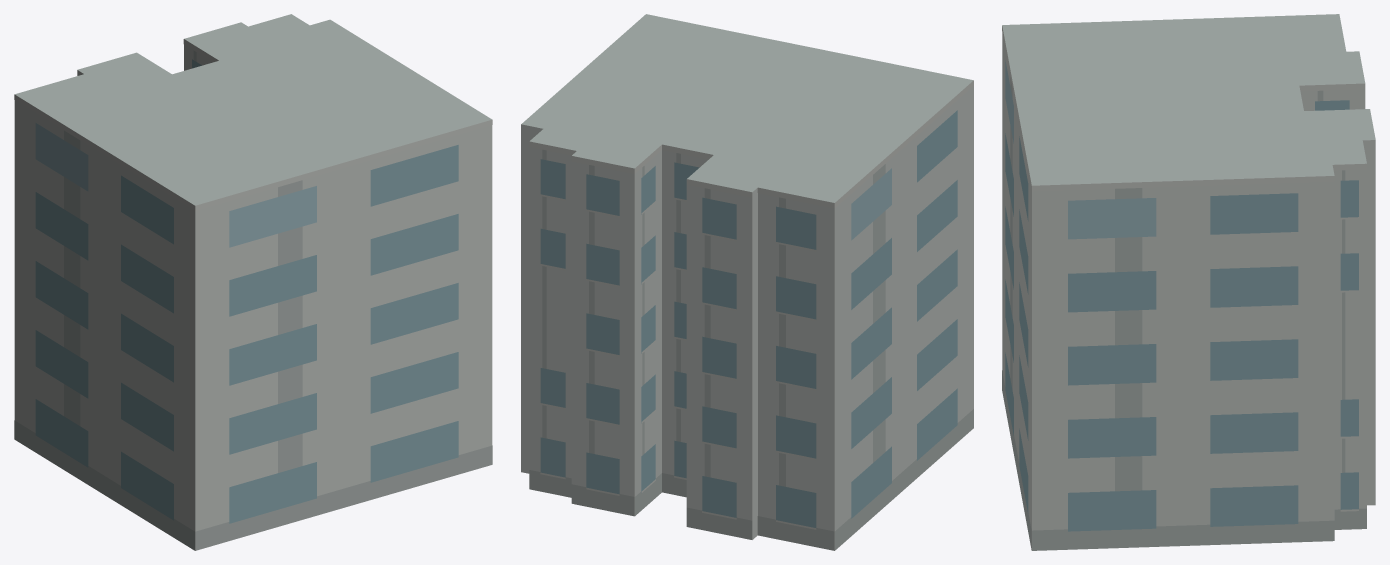
The model's file is survey-upis-32555883.glb.
3 views of the same model, side by side, from view 1: azimuth 30°, elevation 25°; view 2: azimuth 150°, elevation 25°; view 3: azimuth 270°, elevation 25° (orthographic). The views are drawn at different scales.
Visible parts, largest first — view 1: survey-upis-32555883.tmp; view 2: survey-upis-32555883.tmp; view 3: survey-upis-32555883.tmp.
Boxes of the visible parts, box(x1,y1,x2,y2) form: survey-upis-32555883.tmp: box(14, 14, 492, 550); survey-upis-32555883.tmp: box(521, 14, 973, 550); survey-upis-32555883.tmp: box(1002, 14, 1375, 550).
Bounding box in the file's own units: 15.44 × 15.3 × 14.2.
